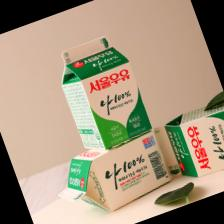milk: (49, 29, 154, 156), (46, 126, 175, 224), (150, 96, 224, 187)
